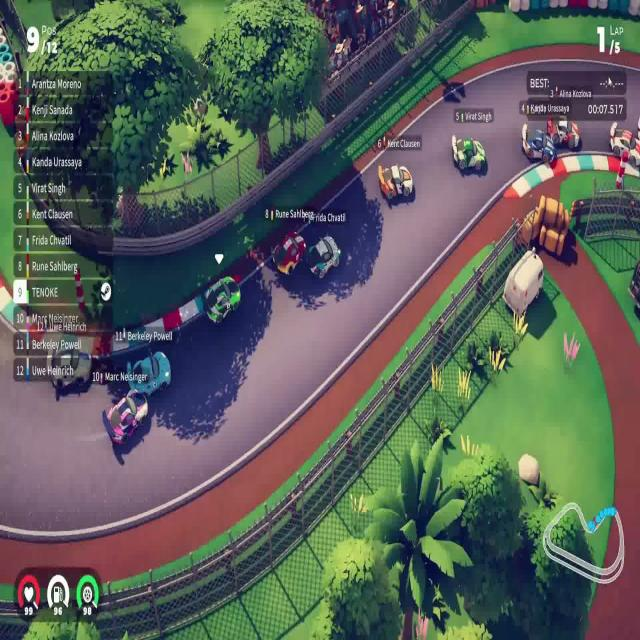car: (106, 388, 148, 446), (126, 348, 172, 398), (203, 275, 241, 325), (270, 230, 306, 276), (306, 234, 342, 280), (521, 122, 556, 167), (450, 132, 486, 174), (378, 162, 413, 201), (546, 116, 581, 151)
